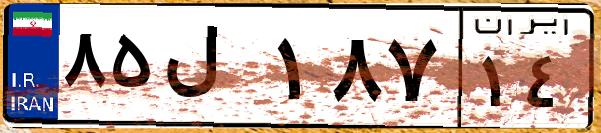1: (270, 28, 330, 110), (475, 38, 525, 113)
4: (525, 38, 570, 115)
5: (110, 28, 158, 98)
7: (385, 28, 445, 110)
8: (330, 28, 385, 110), (57, 26, 110, 100)
ل: (158, 20, 270, 120)
